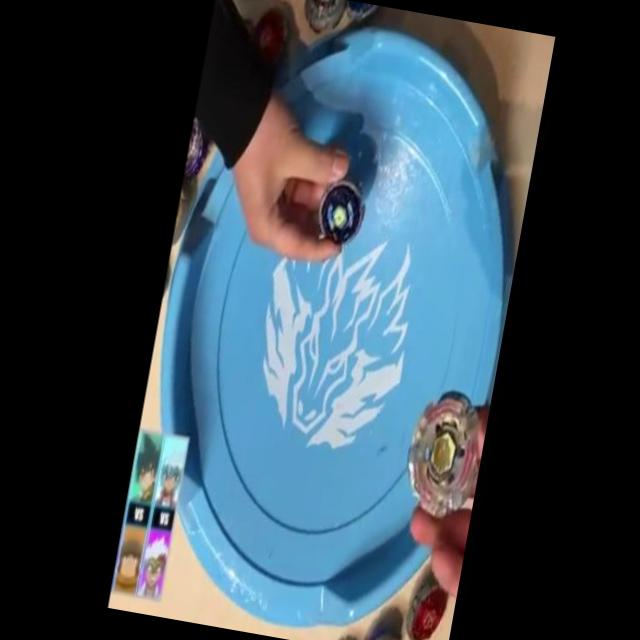Beyblade: (398, 384, 488, 524), (314, 176, 368, 248), (403, 574, 450, 640), (248, 4, 292, 69)
